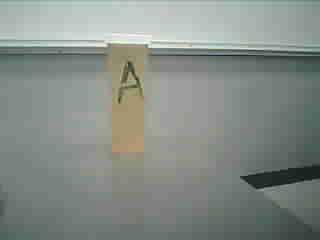Bottle A: (103, 27, 153, 163)
